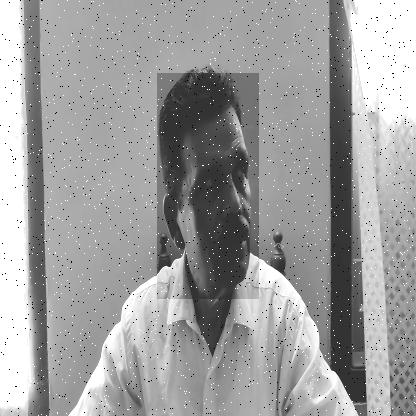Distracted: (157, 74, 259, 300)
